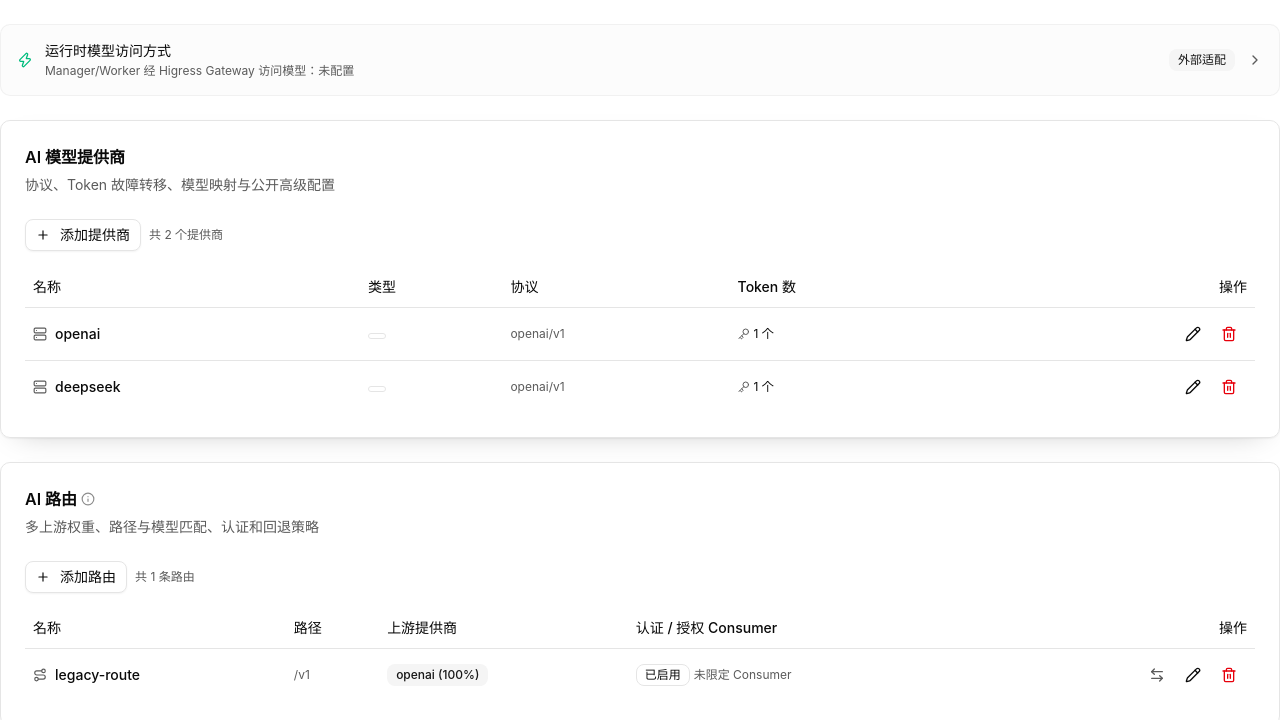
Scenario: ModelsSection › opens the edit form for a route whose authConfig omits allowedCredentialTypes
Click the button named "编辑 legacy-route" at (1193, 675), box [1175,657,1211,693]
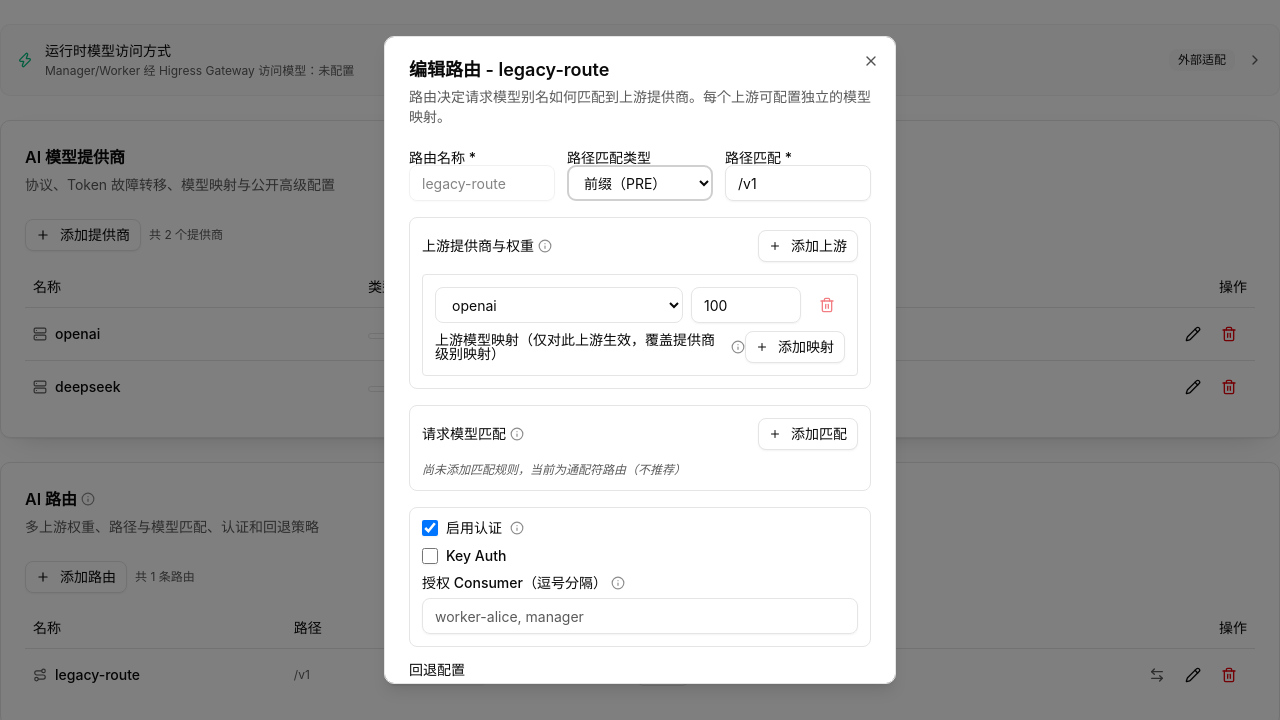
Expected: the text "启用认证" is shown, [446,521,502,535]
Expected: the checkbox labelled "启用认证" is checked, [422,520,438,536]
